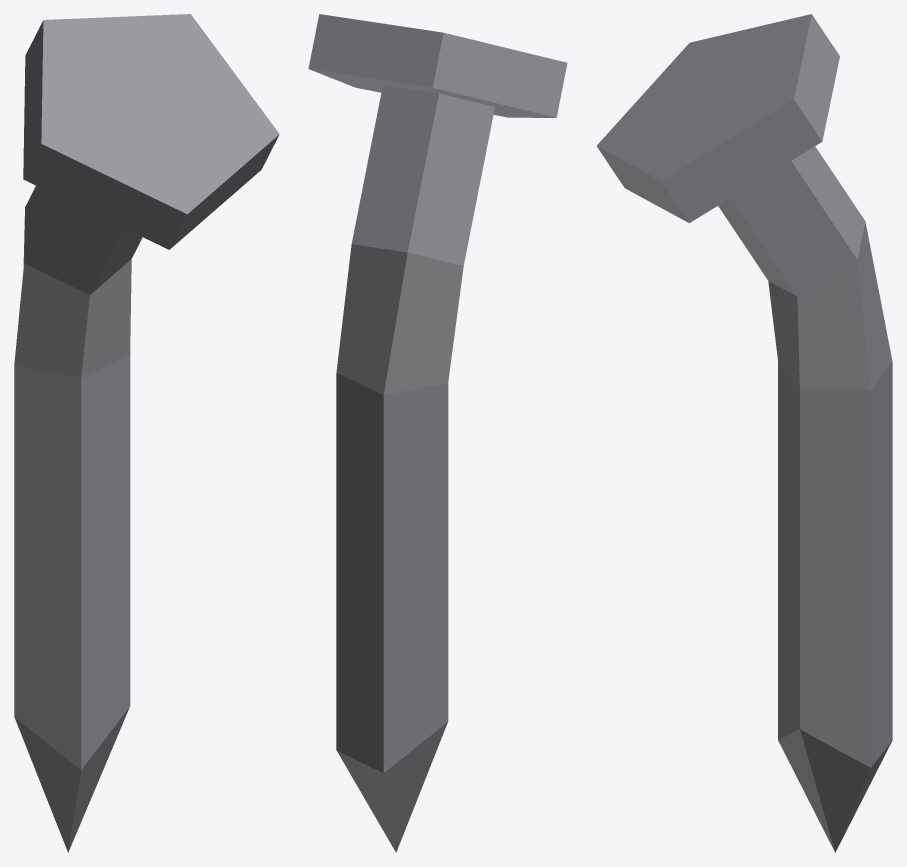
Rendered from SM_Item_Nail_04.fbx.
3 renders of one model, left to right at view 1: azimuth 30°, elevation 25°; view 2: azimuth 150°, elevation 25°; view 3: azimuth 270°, elevation 25°, orthographic. The views are drawn at different scales.
Visible parts, largest first — view 1: SM_Item_Nail_04; view 2: SM_Item_Nail_04; view 3: SM_Item_Nail_04.
Boxes of the visible parts, x1=… form: SM_Item_Nail_04: x1=14, y1=14, x2=279, y2=852; SM_Item_Nail_04: x1=308, y1=14, x2=567, y2=852; SM_Item_Nail_04: x1=597, y1=14, x2=892, y2=852.
Size of the model in its own units: 3.69 by 13.22 by 4.32.
